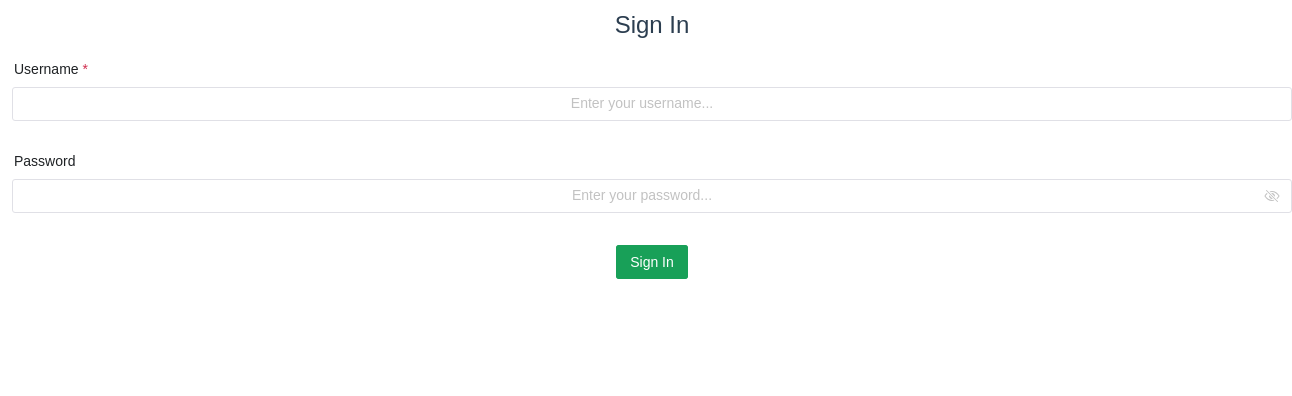
Test: error notification appears on invalid username or password
This screenshot has width=1292, height=396.
# No username or password
Click the button "Sign In".
click(652, 262)  # box [616,244,688,278]
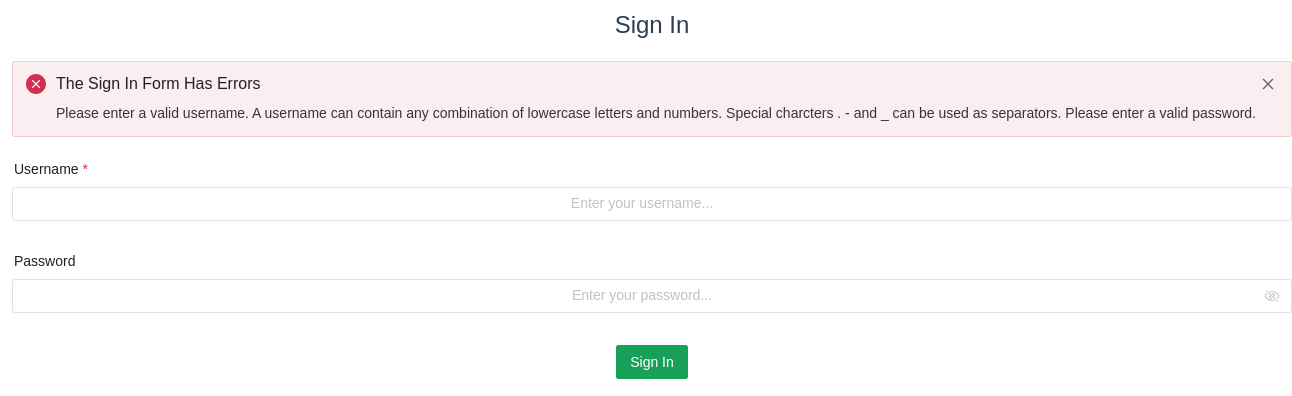
Expected: the text "The Sign In Form Has Errors" is shown, [56,74,260,92]
